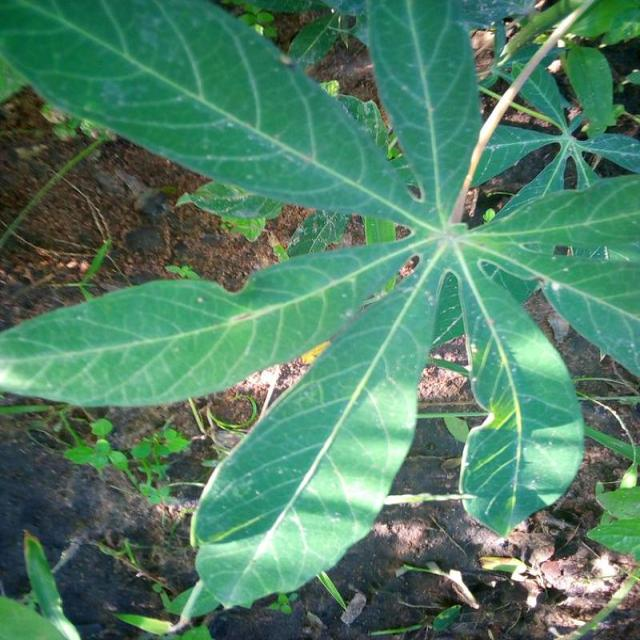cassava leaf: (1, 0, 638, 620), (189, 278, 437, 612), (453, 242, 585, 538)
